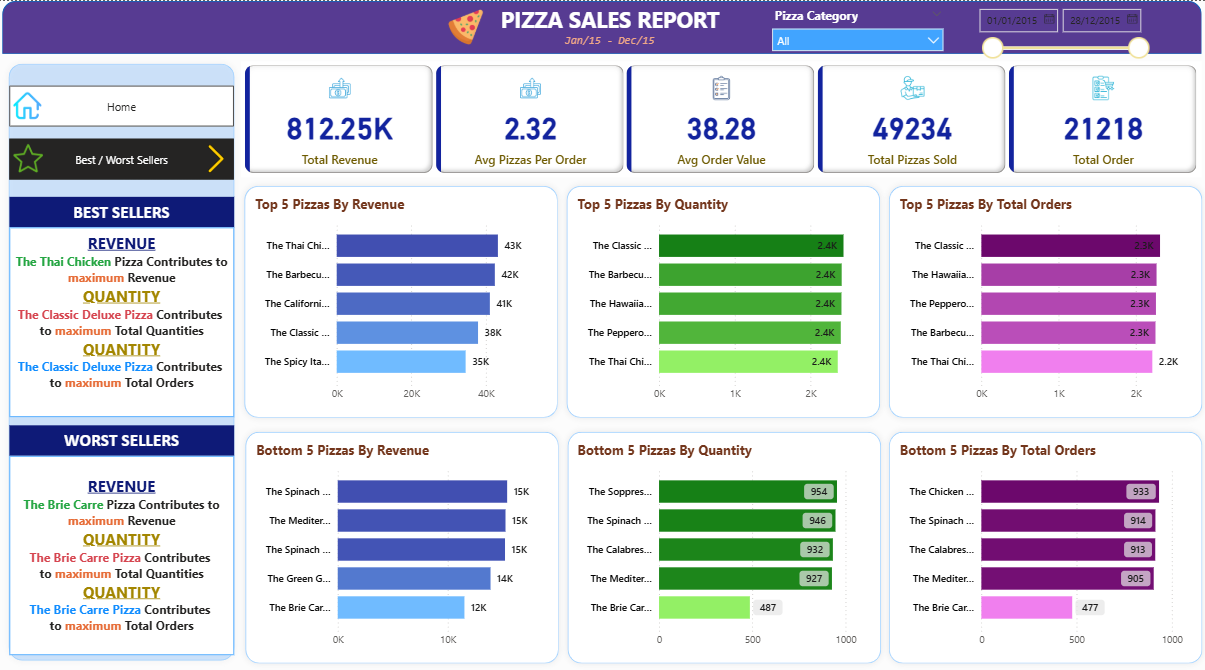

This screenshot's page, from the dashboard's own definition file:
{"tool":"powerbi","page":{"name":"Best / Worst Sellers","canvas":[1500,820],"ordinal":1},"visuals":[{"type":"shape","box":[15,68.8,292.5,747.5],"z":0},{"type":"cardVisual","fields":{"Data":["pizza_sales.Total Revenue","pizza_sales.Avg Pizzas Per Order","pizza_sales.Avg Order Value","pizza_sales.Total Pizzas Sold","pizza_sales.Total Order"]},"box":[307.5,73.8,1177.5,142.5],"z":1000},{"type":"shape","box":[15,0,1470,65],"z":2000},{"type":"textbox","box":[610,0,300,50],"z":3000},{"type":"textbox","box":[693.8,32.5,131.2,32.5],"z":4000},{"type":"image","box":[555,5,55,53.8],"z":5000},{"type":"shape","box":[303.8,218.8,400,300],"z":6000},{"type":"textbox","box":[23.8,240,275,37.5],"z":7000},{"type":"textbox","box":[23.8,277.5,275,232.5],"z":8000},{"type":"textbox","box":[23.8,520,275,37.5],"z":9000},{"type":"textbox","box":[23.8,557.5,275,243.8],"z":10000},{"type":"slicer","fields":{"Values":["pizza_sales.pizza_category"]},"box":[948.8,2.5,230,60],"z":11000},{"type":"slicer","fields":{"Values":["pizza_sales.order_date"]},"box":[1200,0,230,73.8],"z":12000},{"type":"shape","box":[698.8,218.8,400,300],"z":13000},{"type":"shape","box":[1093.8,218.8,400,300],"z":14000},{"type":"shape","box":[305,520,400,300],"z":15000},{"type":"shape","box":[700,520,400,300],"z":16000},{"type":"shape","box":[1093.8,520,400,300],"z":17000},{"type":"barChart","title":"Top 5 Pizzas By Revenue","fields":{"Category":["pizza_sales.pizza_name"],"Y":["pizza_sales.Total Revenue"]},"box":[320,237.5,367.5,262.5],"z":18000},{"type":"barChart","title":"Bottom 5 Pizzas By Revenue","fields":{"Category":["pizza_sales.pizza_name"],"Y":["pizza_sales.Total Revenue"]},"box":[321.2,538.8,367.5,262.5],"z":19000},{"type":"barChart","title":"Top 5 Pizzas By Quantity","fields":{"Category":["pizza_sales.pizza_name"],"Y":["pizza_sales.Total Pizzas Sold"]},"box":[715,237.5,367.5,262.5],"z":20000},{"type":"barChart","title":"Bottom 5 Pizzas By Quantity","fields":{"Category":["pizza_sales.pizza_name"],"Y":["pizza_sales.Total Pizzas Sold"]},"box":[715,538.8,367.5,262.5],"z":21000},{"type":"barChart","title":"Top 5 Pizzas By Total Orders","fields":{"Category":["pizza_sales.pizza_name"],"Y":["pizza_sales.Total Order"]},"box":[1110,237.5,367.5,262.5],"z":22000},{"type":"barChart","title":"Bottom 5 Pizzas By Total Orders","fields":{"Category":["pizza_sales.pizza_name"],"Y":["pizza_sales.Total Order"]},"box":[1110,538.8,367.5,262.5],"z":23000},{"type":"pageNavigator","box":[23.8,168.8,275,50],"z":24000},{"type":"pageNavigator","box":[23.8,103.8,275,50],"z":25000},{"type":"image","box":[23.8,106.2,43.8,45],"z":26000},{"type":"image","box":[23.8,168.8,46.2,47.5],"z":26001},{"type":"image","box":[255,171.2,43.8,45],"z":26002}]}

Visuals, with their boxes in screenshot pixels (x1, y1, x2, y2), scaled from the page's 1500x820 canvas onto the 1205x670 screenshot:
shape: box=[12, 56, 247, 667]
cardVisual - pizza_sales.Total Revenue x pizza_sales.Avg Pizzas Per Order: box=[247, 60, 1193, 177]
shape: box=[12, 0, 1193, 53]
textbox: box=[490, 0, 731, 41]
textbox: box=[557, 27, 663, 53]
image: box=[446, 4, 490, 48]
shape: box=[244, 179, 565, 424]
textbox: box=[19, 196, 240, 227]
textbox: box=[19, 227, 240, 417]
textbox: box=[19, 425, 240, 456]
textbox: box=[19, 456, 240, 655]
slicer - pizza_sales.pizza_category: box=[762, 2, 947, 51]
slicer - pizza_sales.order_date: box=[964, 0, 1149, 60]
shape: box=[561, 179, 883, 424]
shape: box=[879, 179, 1200, 424]
shape: box=[245, 425, 566, 669]
shape: box=[562, 425, 884, 669]
shape: box=[879, 425, 1200, 669]
"Top 5 Pizzas By Revenue" barChart: box=[257, 194, 552, 409]
"Bottom 5 Pizzas By Revenue" barChart: box=[258, 440, 553, 655]
"Top 5 Pizzas By Quantity" barChart: box=[574, 194, 870, 409]
"Bottom 5 Pizzas By Quantity" barChart: box=[574, 440, 870, 655]
"Top 5 Pizzas By Total Orders" barChart: box=[892, 194, 1187, 409]
"Bottom 5 Pizzas By Total Orders" barChart: box=[892, 440, 1187, 655]
pageNavigator: box=[19, 138, 240, 179]
pageNavigator: box=[19, 85, 240, 126]
image: box=[19, 87, 54, 124]
image: box=[19, 138, 56, 177]
image: box=[205, 140, 240, 177]
